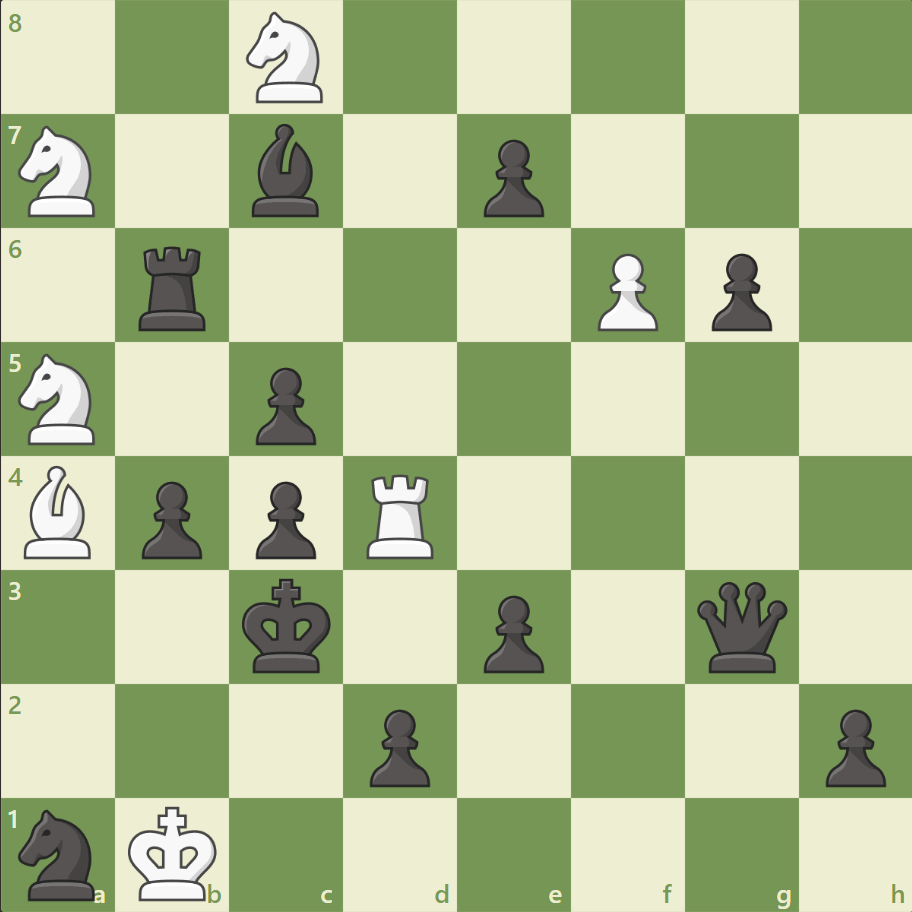B: (17, 460, 101, 563)
K: (124, 798, 224, 906)
N: (238, 7, 335, 110), (11, 121, 108, 223), (11, 348, 108, 450)
P: (588, 246, 662, 337)
R: (360, 466, 442, 563)
b: (244, 120, 328, 222)
k: (238, 571, 338, 679)
n: (11, 802, 108, 904)
p: (474, 132, 549, 223), (701, 246, 776, 337), (247, 359, 322, 450), (133, 473, 208, 564), (247, 473, 322, 564), (474, 586, 549, 677), (361, 700, 435, 791), (815, 700, 889, 791)
q: (691, 576, 790, 676)
r: (133, 239, 215, 336)
